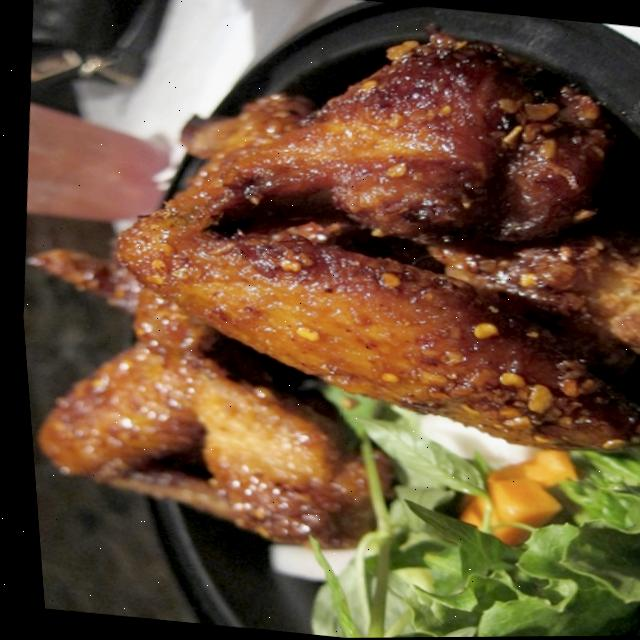鸡肉料理 含炸鸡: (0, 1, 640, 631)
